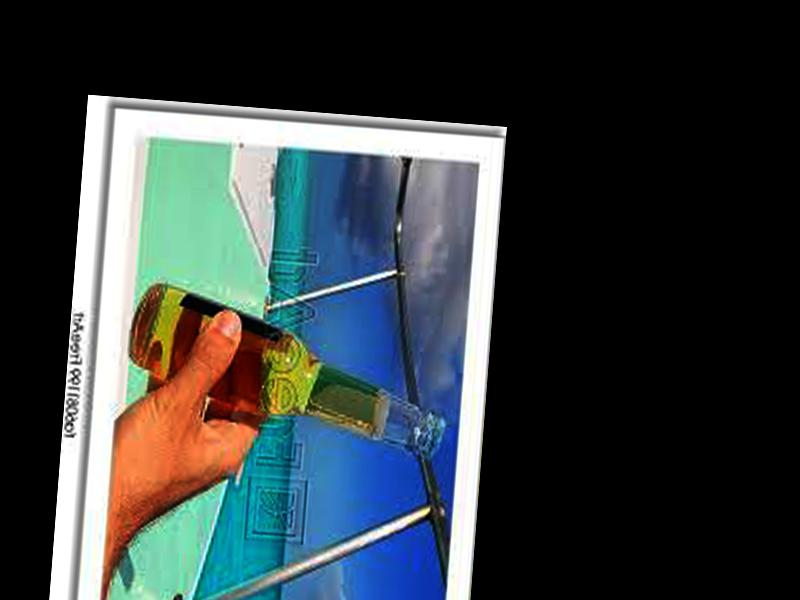Beer: (126, 279, 452, 467)
